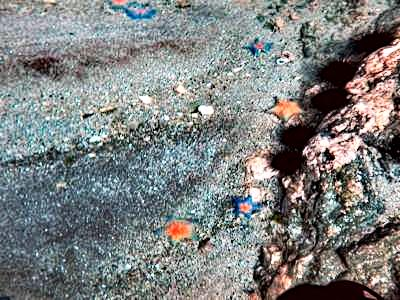urchin: (318, 56, 356, 82), (309, 88, 348, 112), (356, 28, 392, 51), (279, 122, 311, 147), (270, 148, 300, 173)
